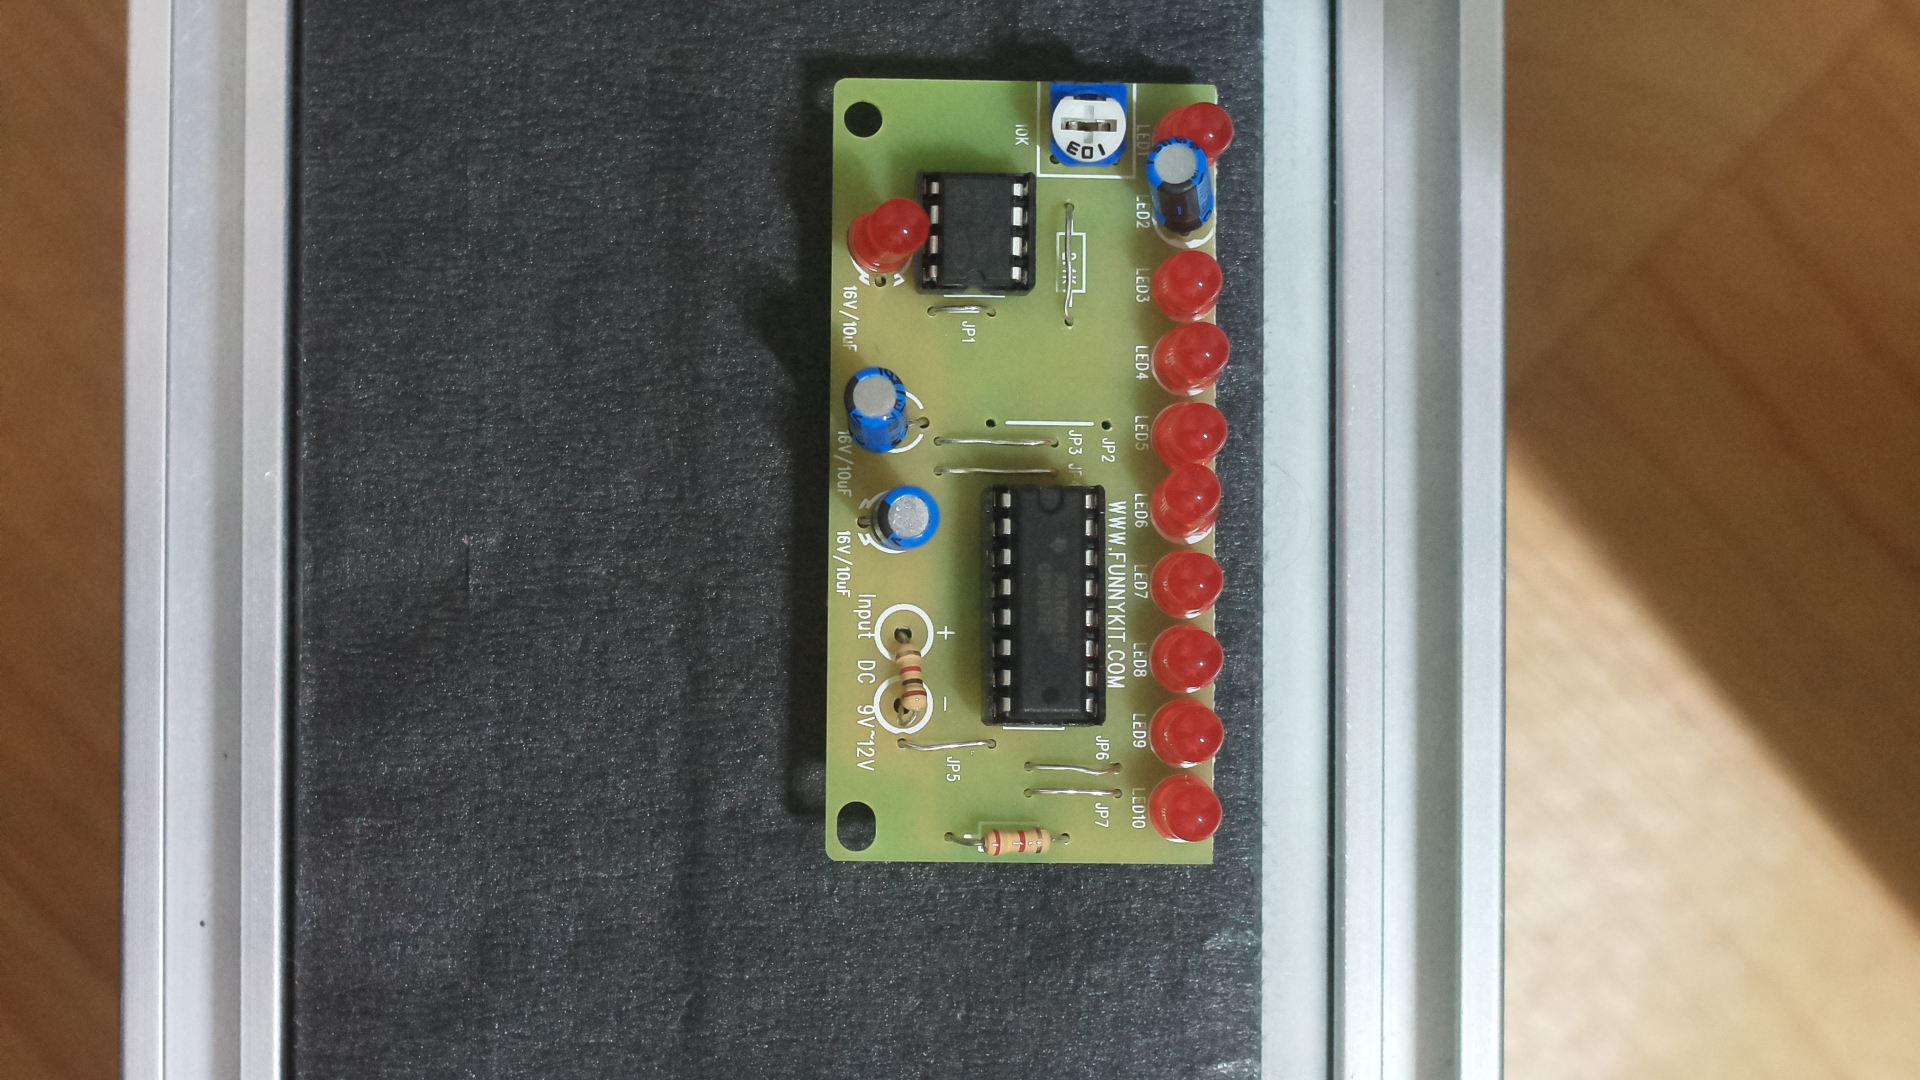B_Misordered: (803, 51, 1240, 901)
